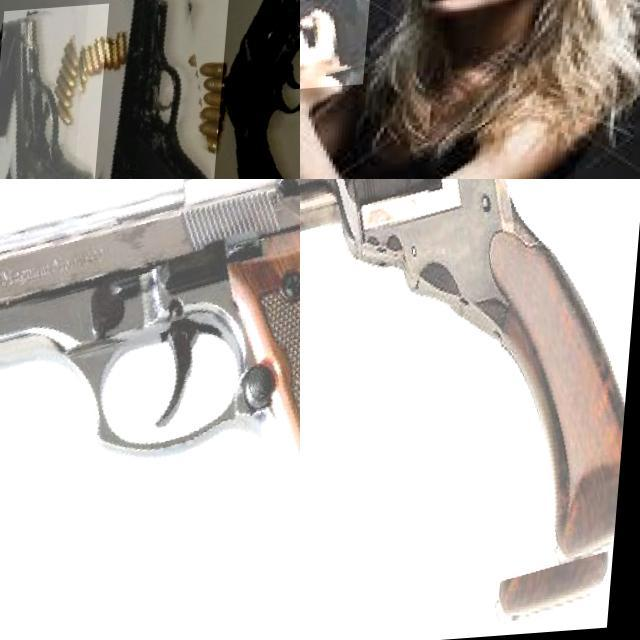gun-knife-thesis - v11 Yolov5 augmented: (300, 179, 640, 640), (0, 179, 300, 640), (76, 0, 235, 179), (128, 0, 300, 138), (0, 7, 114, 179), (15, 0, 201, 104), (219, 0, 300, 179), (300, 0, 377, 95)
